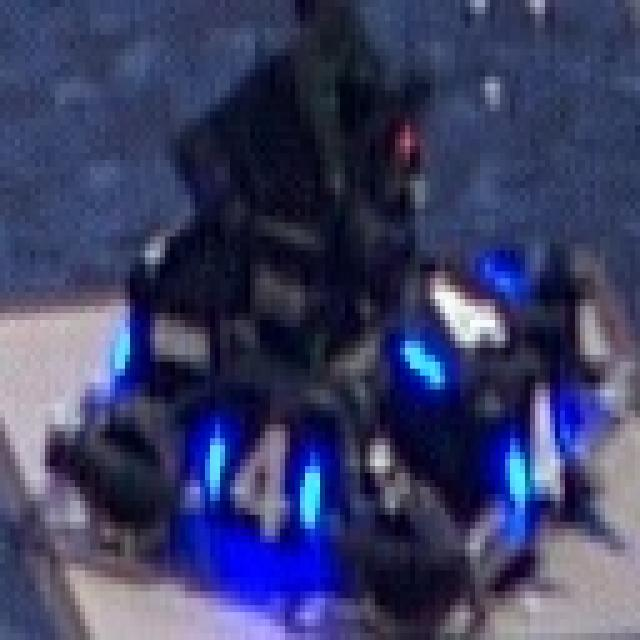B4: (468, 334, 602, 529), (170, 403, 330, 542), (388, 247, 538, 386)
